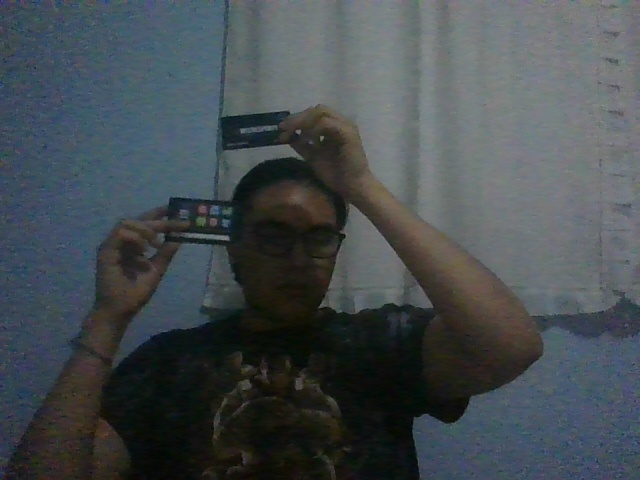tarjeta: (164, 196, 243, 245), (218, 110, 291, 150)
